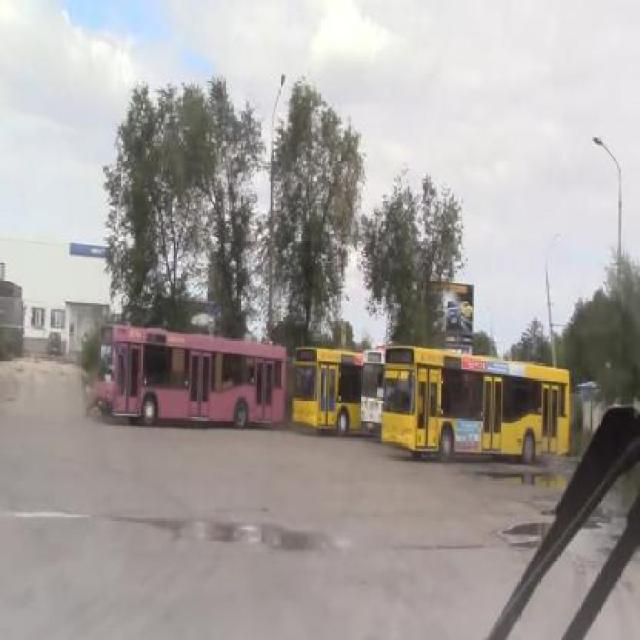bus: (387, 346, 569, 454), (100, 326, 287, 429), (295, 350, 355, 432)
